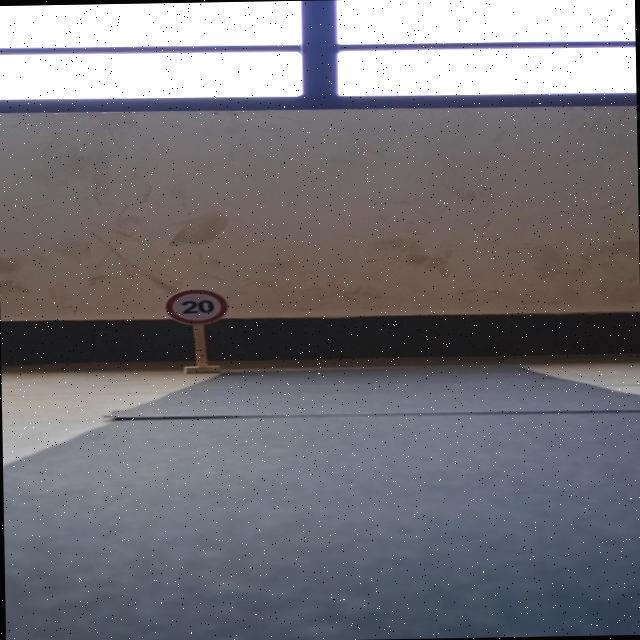Speed20: (163, 286, 229, 327)
